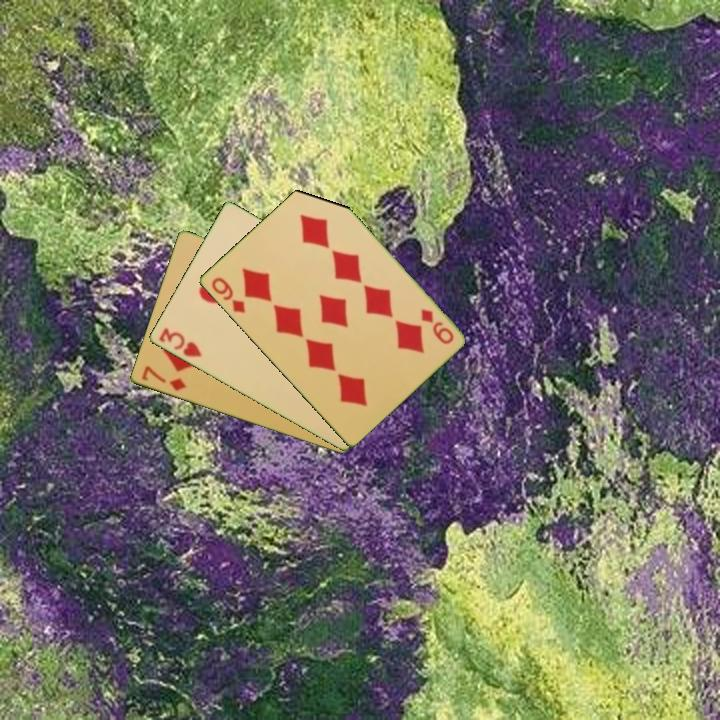3h: (155, 324, 205, 360)
7d: (138, 362, 189, 394)
9d: (207, 274, 248, 316), (417, 305, 456, 347)
